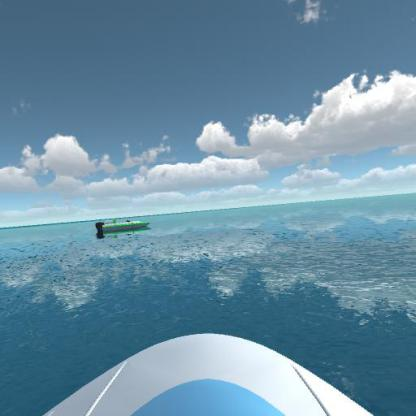usv0: (91, 212, 154, 239)
